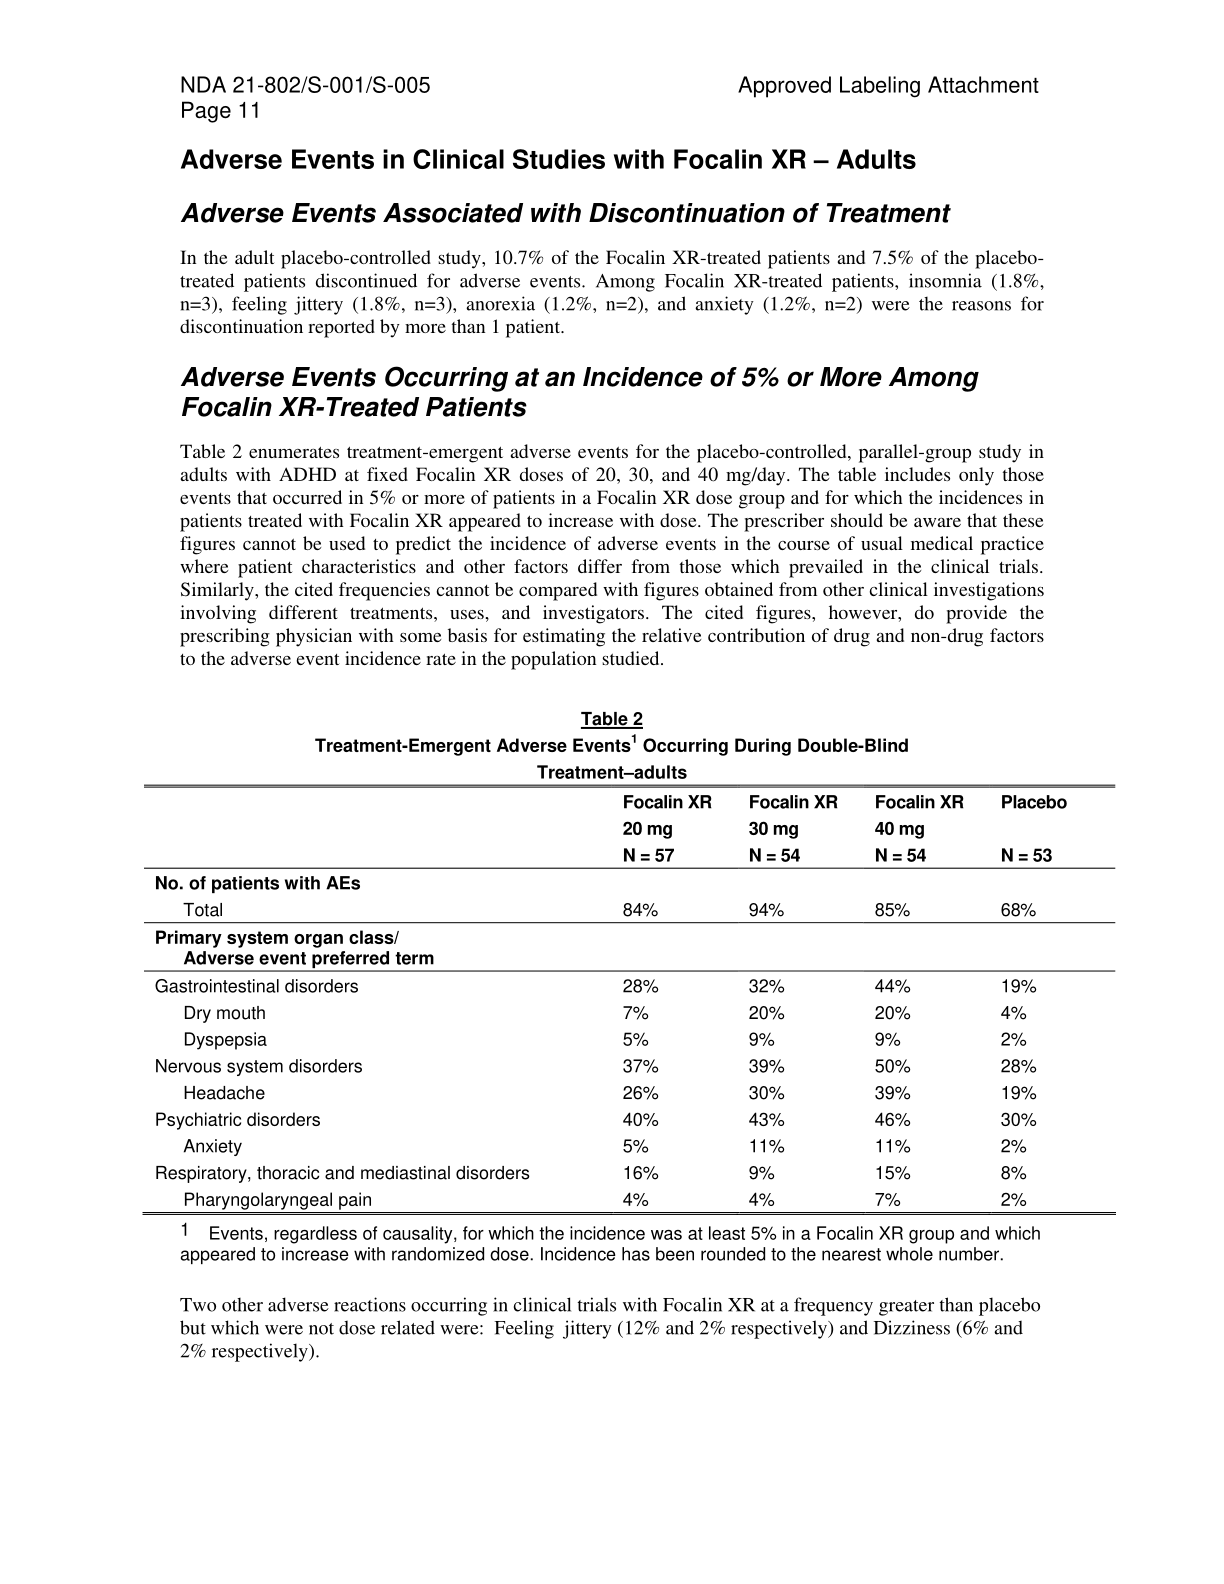partial_lined_merged_cells: (141, 783, 1117, 1218)
